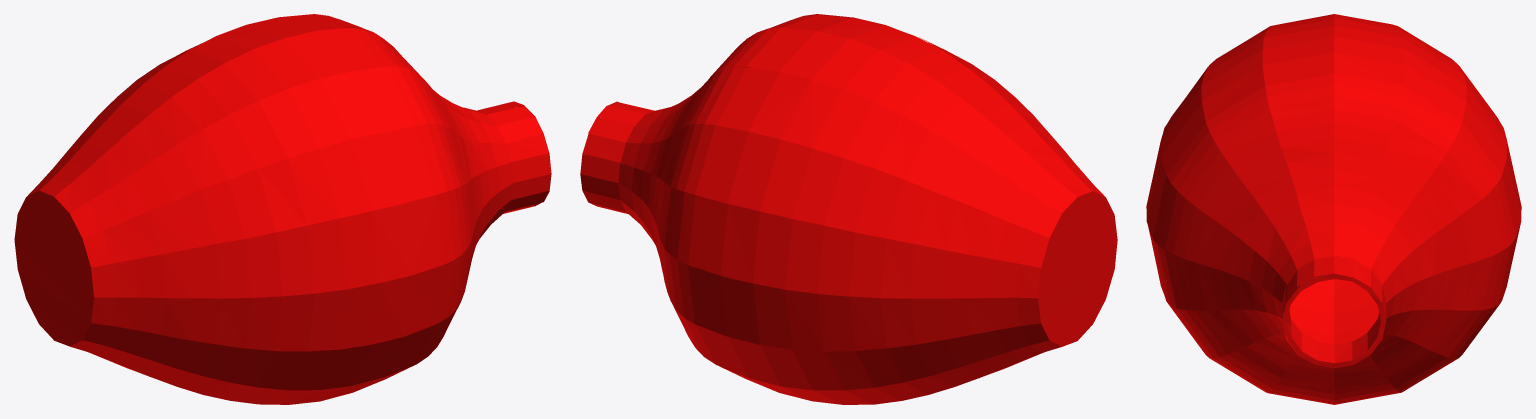
3 views of the same model, side by side, from view 1: azimuth 30°, elevation 25°; view 2: azimuth 150°, elevation 25°; view 3: azimuth 270°, elevation 25° (orthographic). The views are drawn at different scales.
Visible parts, largest first — view 1: Renderer Node; view 2: Renderer Node; view 3: Renderer Node.
Boxes of the visible parts, x1,y1,x2,y2 form: Renderer Node: (14, 14, 551, 404); Renderer Node: (580, 14, 1117, 404); Renderer Node: (1146, 14, 1521, 404).
Size of the model in its own units: 0.7074 by 0.5009 by 0.5012.
Materials: 1 (1 with a texture image).
